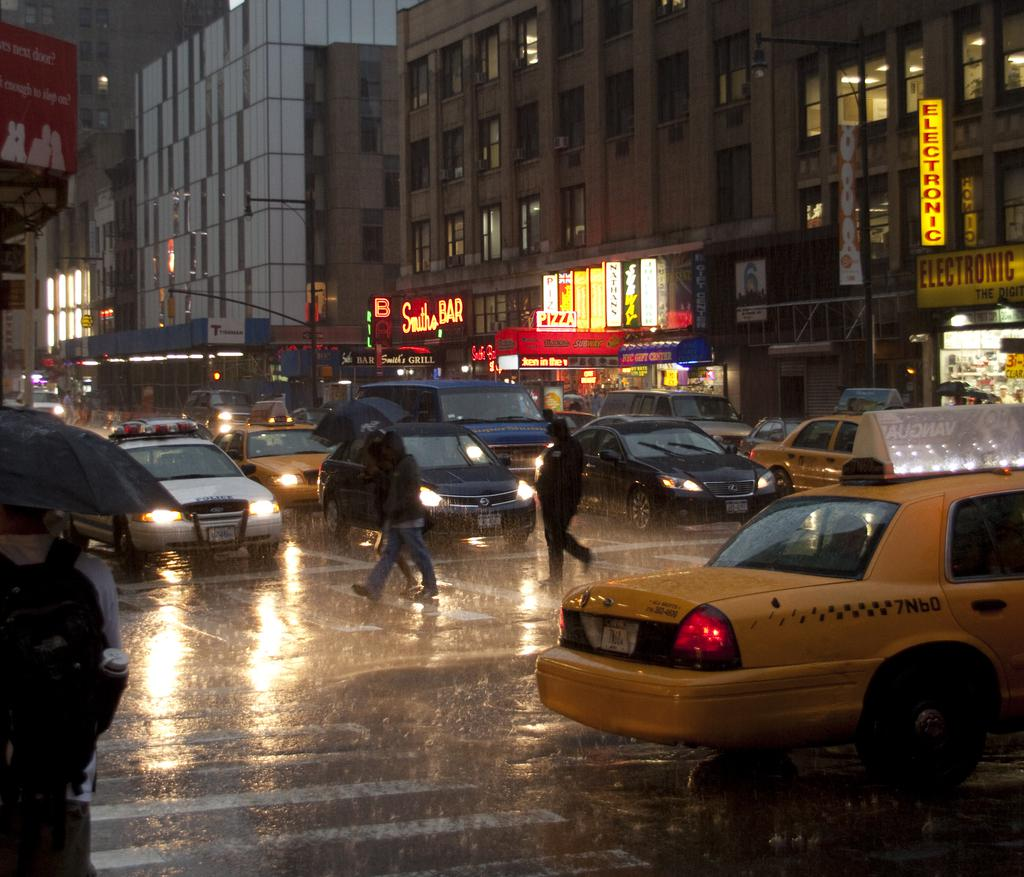taxi: (536, 403, 1024, 793), (749, 387, 908, 505), (214, 402, 343, 516)
